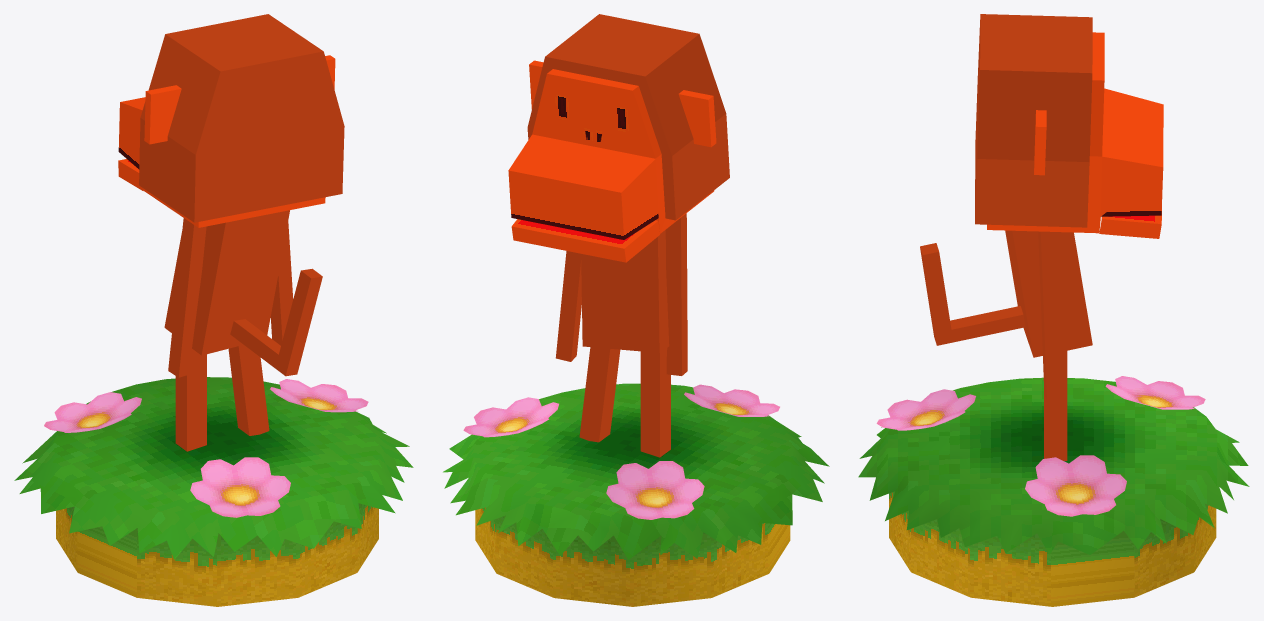
Rendered from ps2_save-icons_zoopuzzle.glb.
The picture shows the model from 3 angles, left to right: view 1: azimuth 30°, elevation 25°; view 2: azimuth 150°, elevation 25°; view 3: azimuth 270°, elevation 25°; orthographic projection. The views are drawn at different scales.
Visible parts, largest first — view 1: SARU.ICO; view 2: SARU.ICO; view 3: SARU.ICO.
Part boxes in pixels (bbox=[...]): SARU.ICO: bbox=[14, 14, 413, 606]; SARU.ICO: bbox=[443, 14, 829, 606]; SARU.ICO: bbox=[858, 14, 1249, 606].
Bounding box in the file's own units: 3.36 × 4.71 × 3.29.
1 material, 1 textured.
